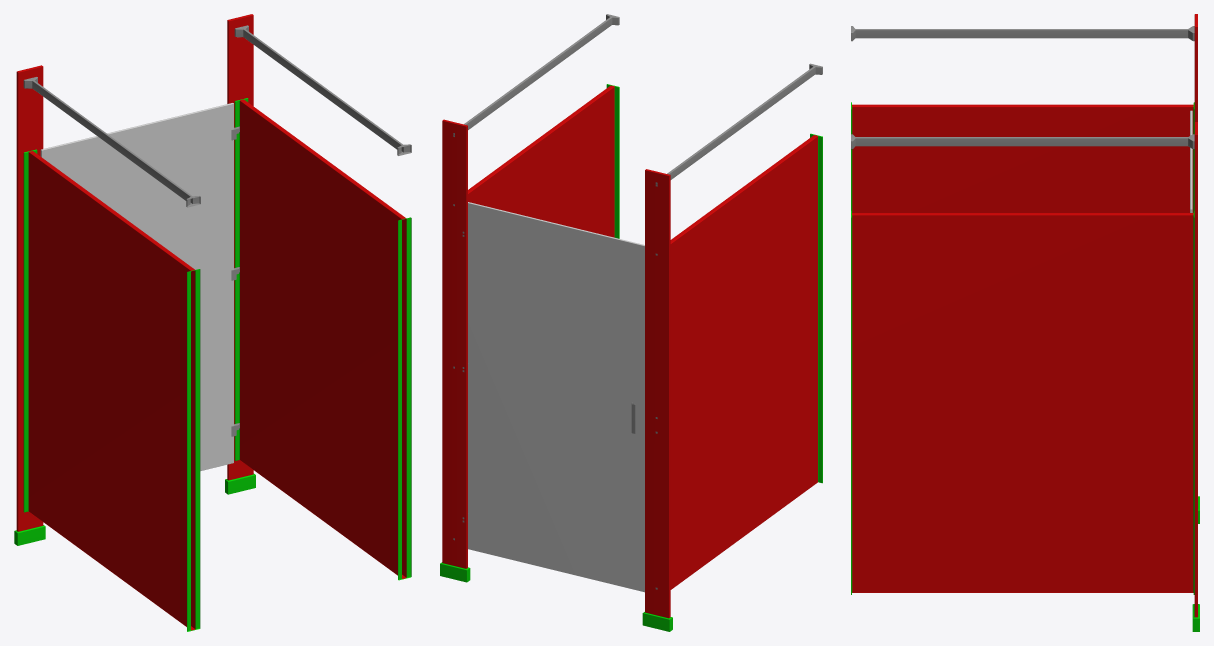
The model's file is Toilet_Stall_Closed.FBX.
3 renders of one model, left to right at view 1: azimuth 30°, elevation 25°; view 2: azimuth 150°, elevation 25°; view 3: azimuth 270°, elevation 25°, orthographic. The views are drawn at different scales.
Visible parts, largest first — view 1: Box009, Box001, Box008, Box010, Box003, Box007, Box011; view 2: Box008, Box009, Box001, Box010, Box003, Box011, Box007; view 3: Box001, Box009, Box011, Box007, Box003, Box010.
Part boxes in pixels (x1=…): Box009: x1=23, y1=149, x2=200, y2=631; Box001: x1=234, y1=98, x2=411, y2=580; Box008: x1=40, y1=103, x2=233, y2=470; Box010: x1=14, y1=65, x2=45, y2=545; Box003: x1=225, y1=14, x2=255, y2=494; Box007: x1=234, y1=25, x2=411, y2=155; Box011: x1=23, y1=77, x2=200, y2=207; Box008: x1=468, y1=202, x2=644, y2=592; Box009: x1=670, y1=133, x2=822, y2=589; Box001: x1=468, y1=84, x2=619, y2=238; Box010: x1=642, y1=169, x2=672, y2=631; Box003: x1=440, y1=119, x2=470, y2=582; Box011: x1=667, y1=63, x2=822, y2=179; Box007: x1=464, y1=14, x2=619, y2=129; Box001: x1=851, y1=210, x2=1194, y2=594; Box009: x1=851, y1=102, x2=1194, y2=212; Box011: x1=851, y1=26, x2=1194, y2=41; Box007: x1=851, y1=134, x2=1194, y2=149; Box003: x1=1192, y1=122, x2=1199, y2=631; Box010: x1=1194, y1=14, x2=1199, y2=523.
Bounding box in the file's own units: 33.7 × 63.77 × 40.62.
